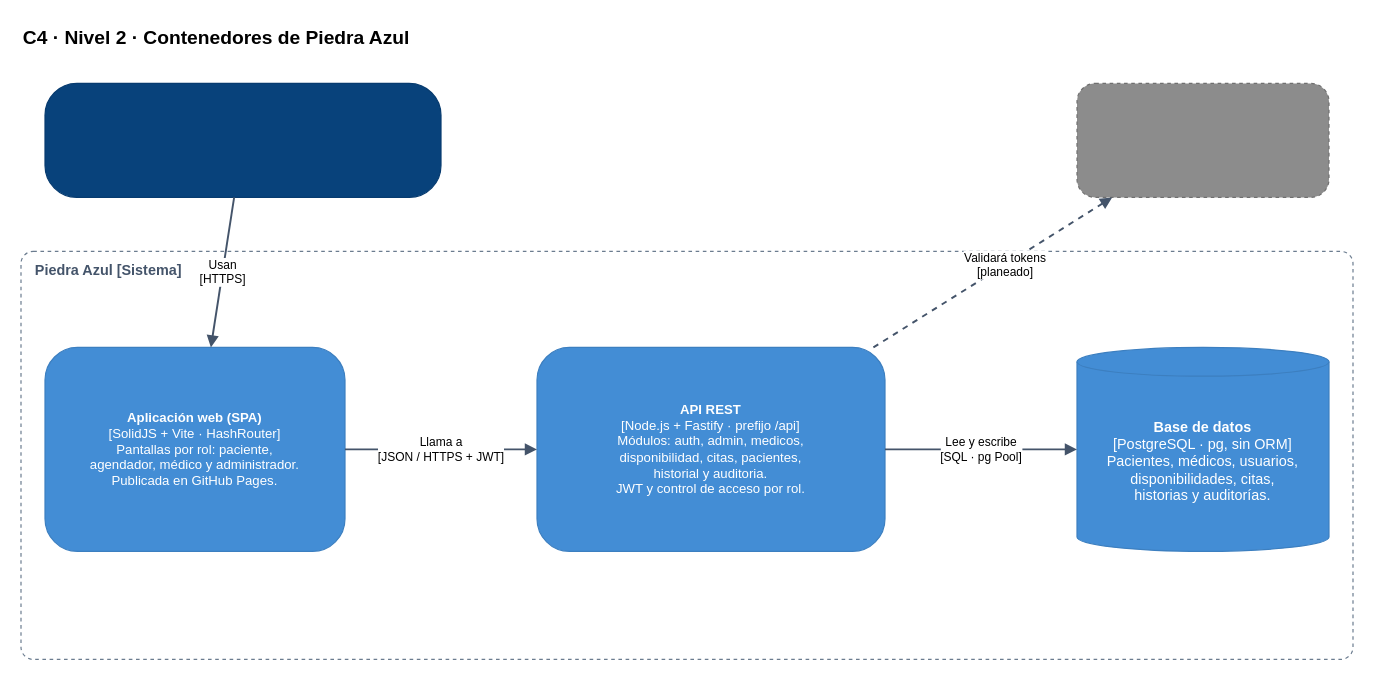
The diagram is 1374 pixels wide and 680 high, and some of its shapes have lost their labels. Here are the shapes that lost their labels. From the top down, the centre of each, then its label:
(x=242, y=139): Usuarios [Personas] Paciente · Agendador · Médico/Terapista · Administrador
(x=1202, y=139): Keycloak [Sistema externo — planeado] Autenticación (RNF-1)
